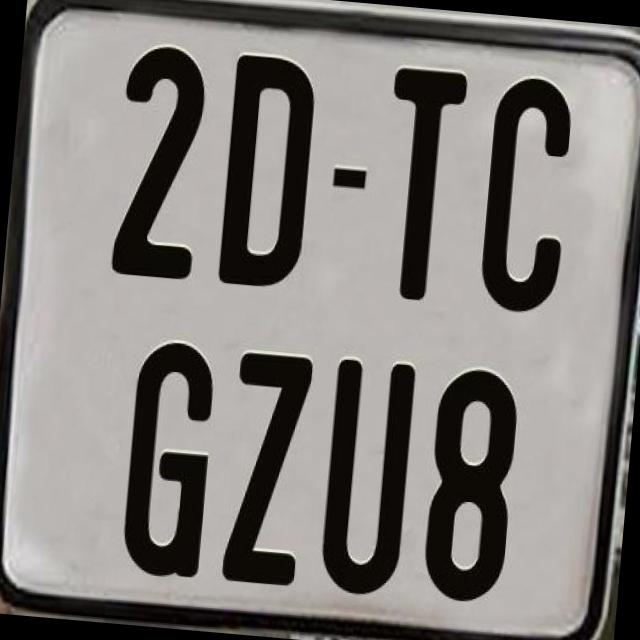2: (107, 42, 215, 284)
8: (417, 366, 518, 613)
C: (476, 70, 580, 318)
D: (216, 51, 316, 288)
G: (118, 334, 216, 578)
T: (374, 66, 470, 309)
U: (314, 356, 414, 600)
Z: (221, 348, 317, 583)
